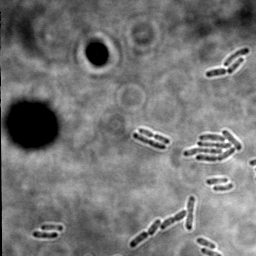Dividing: (137, 126, 171, 145), (160, 209, 188, 231), (186, 196, 197, 231)
Microcolony: (182, 128, 243, 163)
Rod: (132, 131, 168, 151), (223, 46, 251, 68), (195, 236, 218, 251), (227, 56, 245, 75), (129, 231, 149, 248), (31, 229, 59, 241), (205, 67, 228, 79), (147, 218, 162, 236), (212, 182, 235, 193), (205, 176, 229, 186), (39, 223, 65, 232)
